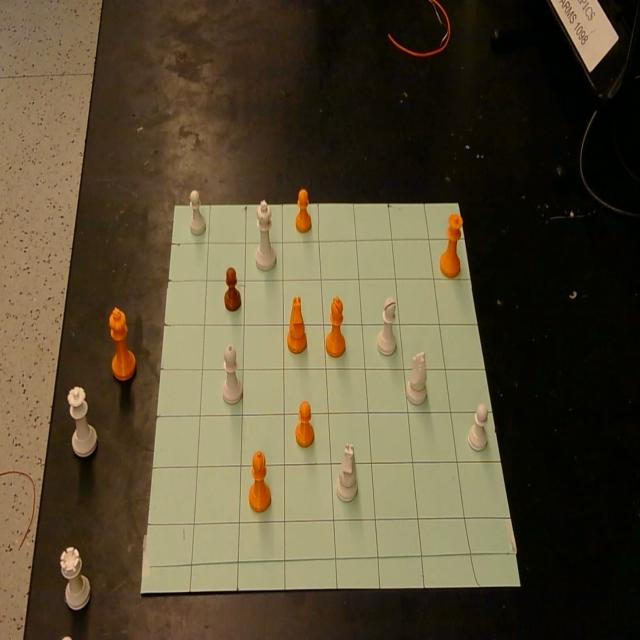orange_bishop: (248, 450, 272, 513), (326, 296, 346, 358)
orange_king: (110, 306, 137, 381)
orange_knight: (287, 293, 307, 353)
orange_pawn: (296, 401, 314, 447), (295, 187, 312, 232), (224, 266, 241, 311)
orange_queen: (440, 213, 463, 278)
white_bishop: (222, 344, 243, 404), (376, 296, 397, 355)
white_king: (255, 201, 276, 269)
white_knight: (336, 443, 358, 502), (406, 350, 428, 404)
white_pawn: (468, 403, 488, 450), (189, 188, 205, 234)
white_rook: (67, 384, 97, 456), (61, 547, 91, 610)
